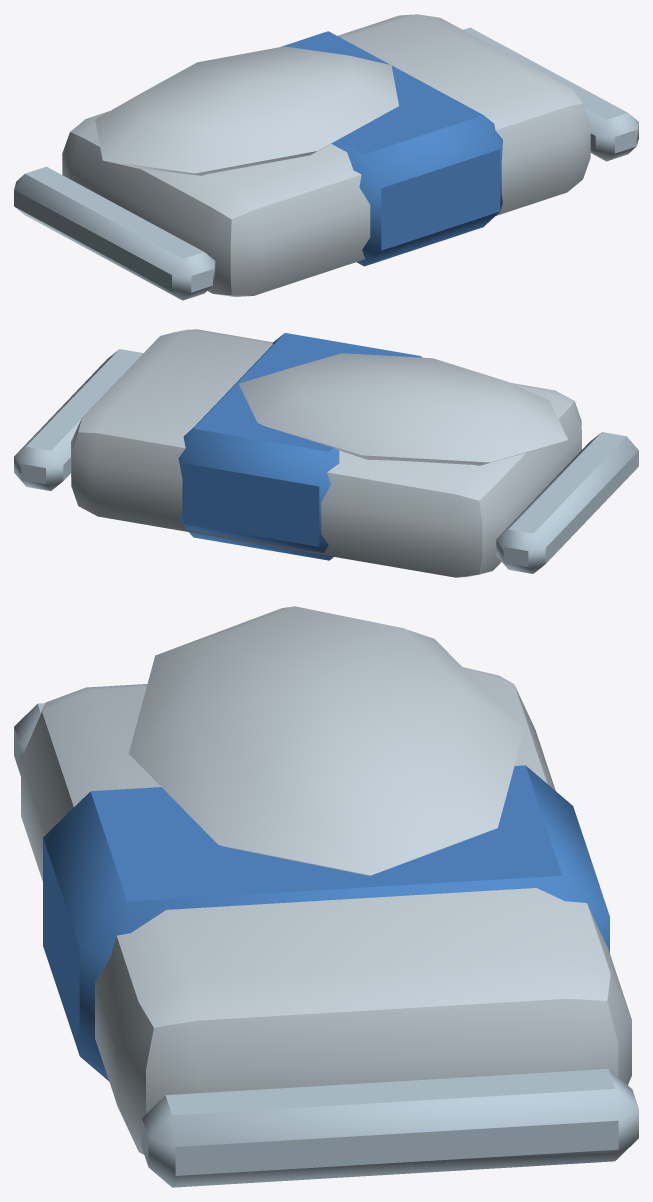
The model's file is chope_tissue.glb.
3 views of the same model, one above another, from view 1: azimuth 30°, elevation 25°; view 2: azimuth 150°, elevation 25°; view 3: azimuth 270°, elevation 25° (orthographic). The views are drawn at different scales.
Visible parts, largest first — view 1: chope_tissue__tissue_pack, chope_tissue__tissue_print, chope_tissue__tissue_crimp; view 2: chope_tissue__tissue_pack, chope_tissue__tissue_print, chope_tissue__tissue_crimp; view 3: chope_tissue__tissue_pack, chope_tissue__tissue_print, chope_tissue__tissue_crimp.
Part boxes in pixels (<box>): chope_tissue__tissue_pack: <box>62,14,590,296</box>; chope_tissue__tissue_print: <box>281,31,502,266</box>; chope_tissue__tissue_crimp: <box>14,27,638,300</box>; chope_tissue__tissue_pack: <box>71,329,581,577</box>; chope_tissue__tissue_print: <box>178,333,421,560</box>; chope_tissue__tissue_crimp: <box>14,349,638,573</box>; chope_tissue__tissue_pack: <box>21,606,631,1154</box>; chope_tissue__tissue_print: <box>43,765,609,1081</box>; chope_tissue__tissue_crimp: <box>14,703,638,1187</box>.
Bounding box in the file's own units: 0.1357 × 0.036 × 0.0782.
